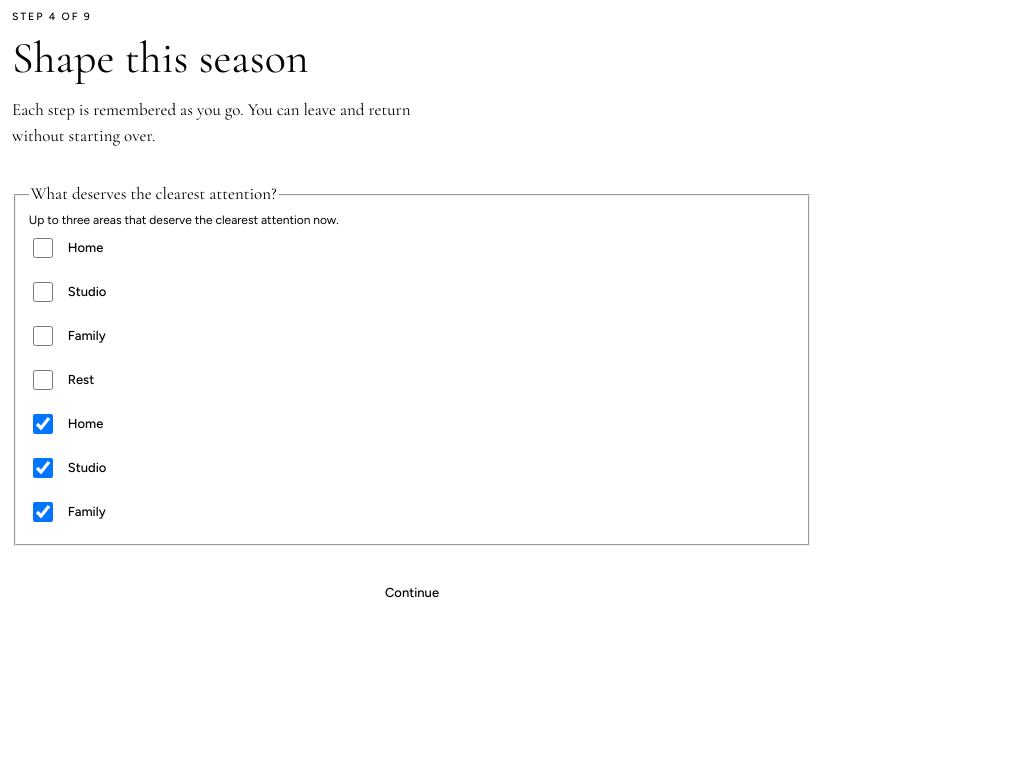
it: requires an explicit choice to retain a fourth priority
This screenshot has width=1036, height=780.
Click the checkbox labelled "Rest". click: coordinates (43, 380)
box: x1=33 y1=370 x2=53 y2=390
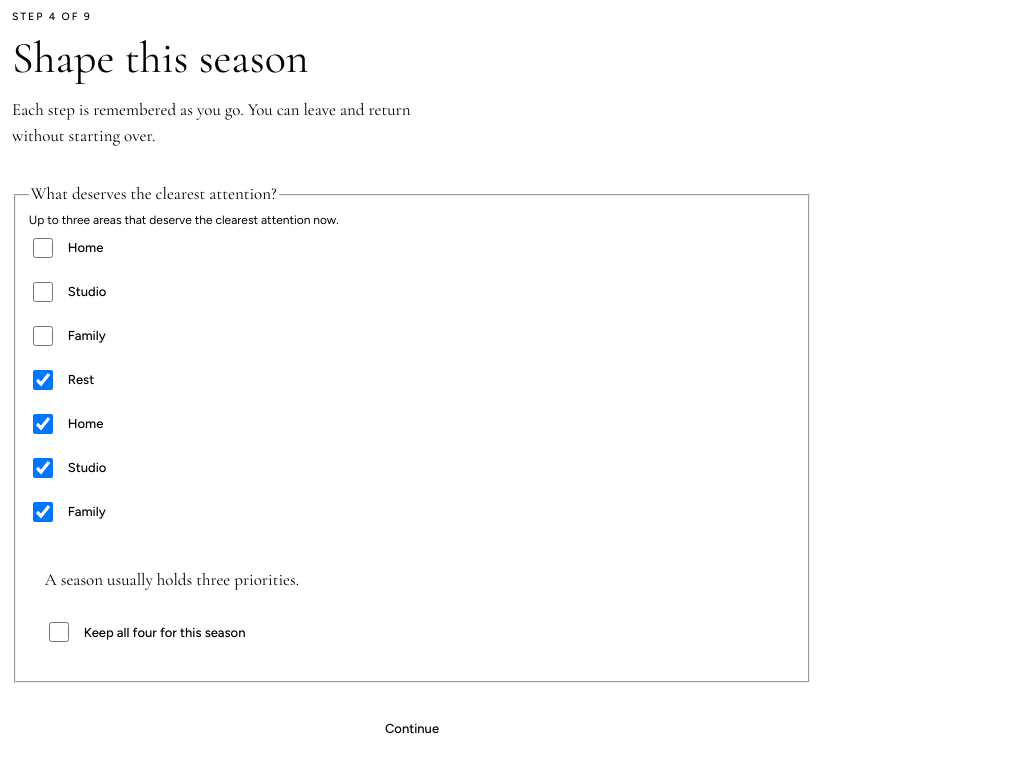
Check: the text "A season usually holds three priorities." is shown, box x1=45 y1=569 x2=299 y2=590
Check: the checkbox labelled "Keep all four for this season" is shown, box x1=49 y1=622 x2=69 y2=642
